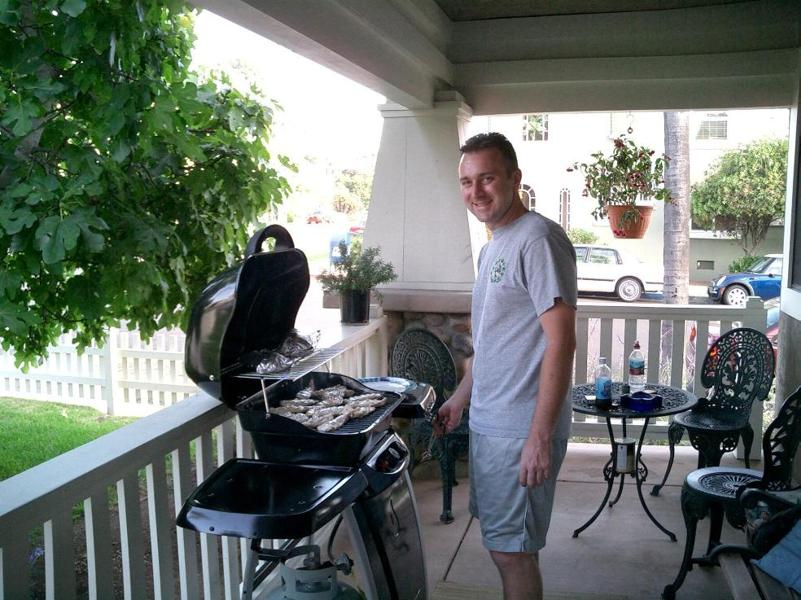person: (438, 133, 576, 598)
